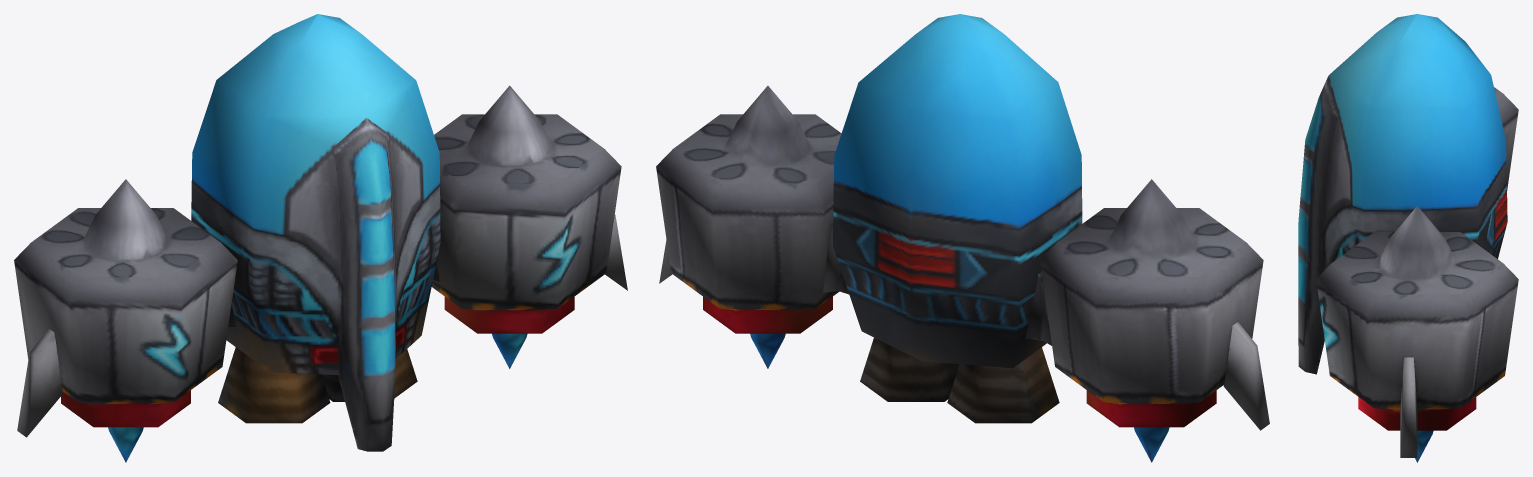
Rendered from air vehicle.FBX.
3 renders of one model, left to right at view 1: azimuth 30°, elevation 25°; view 2: azimuth 150°, elevation 25°; view 3: azimuth 270°, elevation 25°, orthographic. The views are drawn at different scales.
Parts seen in each view (by area): view 1: air vehicle; view 2: air vehicle; view 3: air vehicle.
Boxes of the visible parts, x1,y1,x2,y2 form: air vehicle: (14, 14, 627, 462); air vehicle: (656, 14, 1269, 462); air vehicle: (1298, 14, 1518, 462).
Bounding box in the file's own units: 335 × 214 × 118.
Materials: 1 (1 with a texture image).
